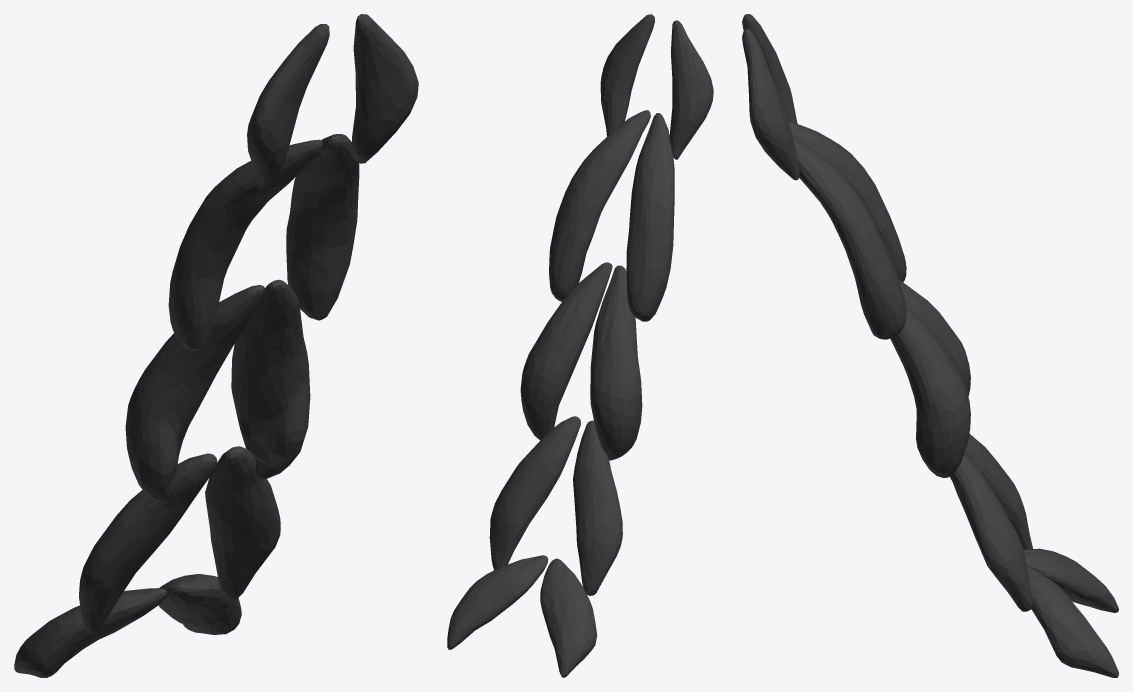
File: m_multifidus_cervicis.glb
3 renders of one model, left to right at view 1: azimuth 30°, elevation 25°; view 2: azimuth 150°, elevation 25°; view 3: azimuth 270°, elevation 25°, orthographic. The views are drawn at different scales.
Parts seen in each view (by area): view 1: m_multifidus_cervicis; view 2: m_multifidus_cervicis; view 3: m_multifidus_cervicis.
Part boxes in pixels (x1=…): m_multifidus_cervicis: x1=14, y1=14, x2=418, y2=677; m_multifidus_cervicis: x1=447, y1=14, x2=713, y2=677; m_multifidus_cervicis: x1=742, y1=14, x2=1118, y2=677.
Size of the model in its own units: 0.00153 by 0.00567 by 0.00311.
Materials: 1 (1 with a texture image).
